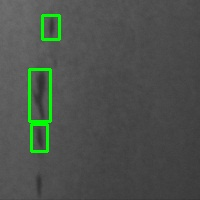inclusion: (29, 69, 50, 121), (31, 124, 47, 151), (42, 15, 59, 39), (34, 171, 45, 198)
